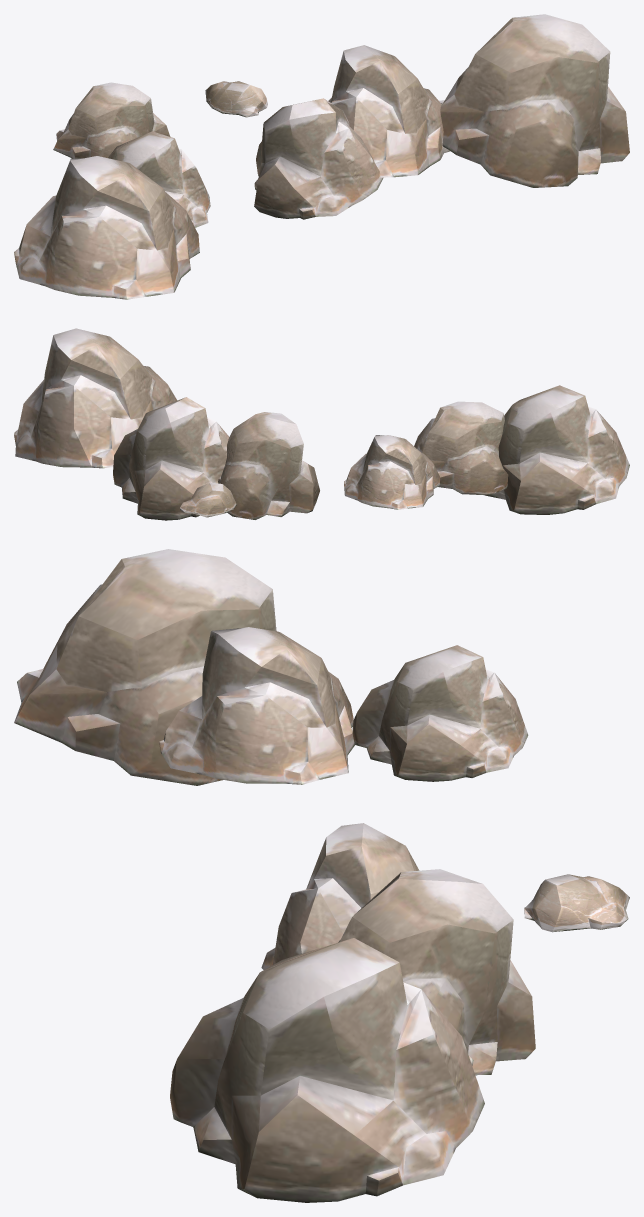
The model's file is pref_sm_beach_bk_winter_pointmol_rock_L01_lv1.fbx.
3 renders of one model, top to bottom at view 1: azimuth 30°, elevation 25°; view 2: azimuth 150°, elevation 25°; view 3: azimuth 270°, elevation 25°, orthographic. The views are drawn at different scales.
Parts seen in each view (by area): view 1: pref_sm_beach_bk_winter_pointmol_rock_L01_lv1; view 2: pref_sm_beach_bk_winter_pointmol_rock_L01_lv1; view 3: pref_sm_beach_bk_winter_pointmol_rock_L01_lv1.
Boxes of the visible parts, x1=… form: pref_sm_beach_bk_winter_pointmol_rock_L01_lv1: x1=14, y1=14, x2=629, y2=299; pref_sm_beach_bk_winter_pointmol_rock_L01_lv1: x1=14, y1=328, x2=629, y2=520; pref_sm_beach_bk_winter_pointmol_rock_L01_lv1: x1=14, y1=549, x2=629, y2=1202.
Bounding box in the file's own units: 21.13 × 4.65 × 11.45.
